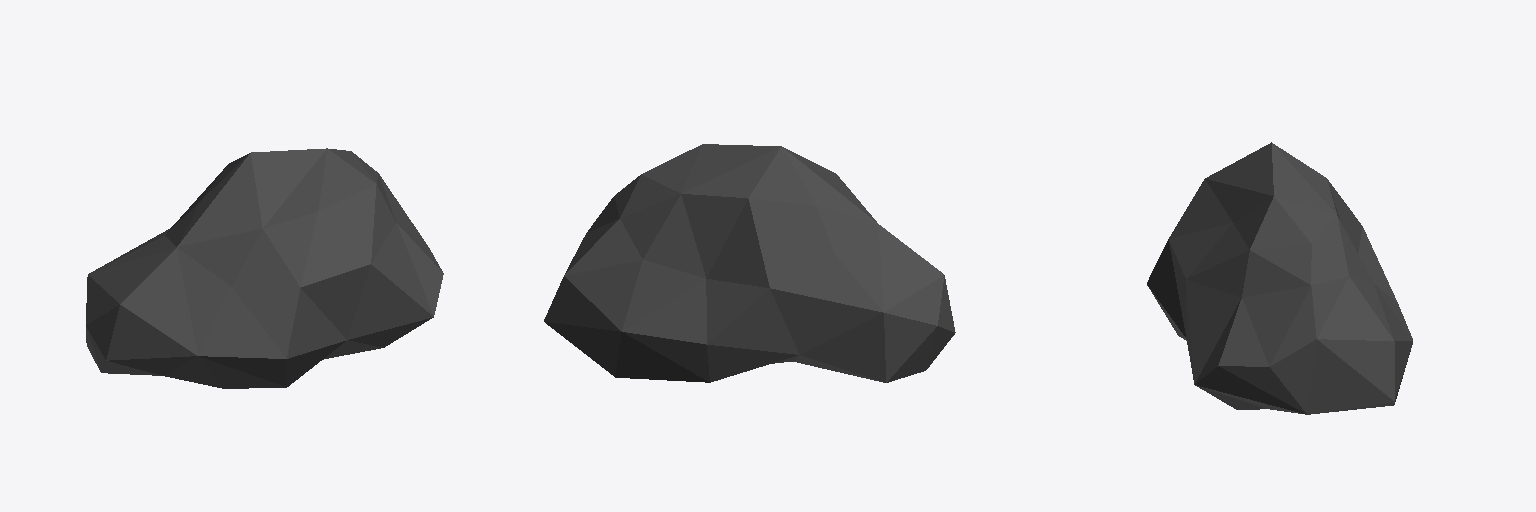
Rendered from rock1.obj.
3 views of the same model, side by side, from view 1: azimuth 30°, elevation 25°; view 2: azimuth 150°, elevation 25°; view 3: azimuth 270°, elevation 25° (orthographic).
Parts seen in each view (by area): view 1: low_poly_rock_6; view 2: low_poly_rock_6; view 3: low_poly_rock_6.
Boxes of the visible parts, <box> form: low_poly_rock_6: <box>86,148,443,388</box>; low_poly_rock_6: <box>544,144,955,382</box>; low_poly_rock_6: <box>1147,142,1412,414</box>.
Bounding box in the file's own units: 1.82 × 1.12 × 1.24.